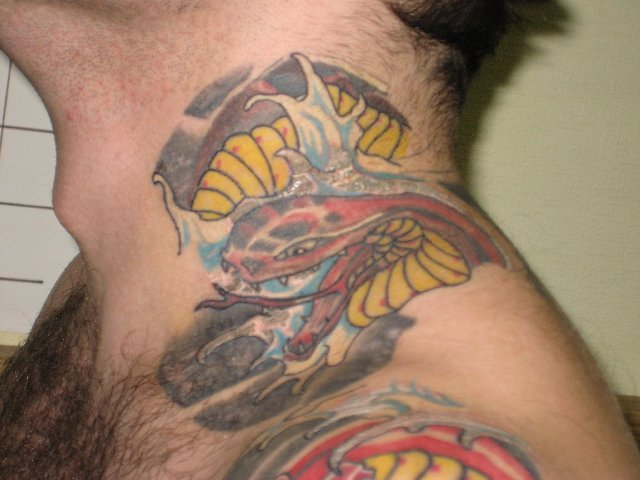tatu7_zmeya: (163, 66, 510, 351)
